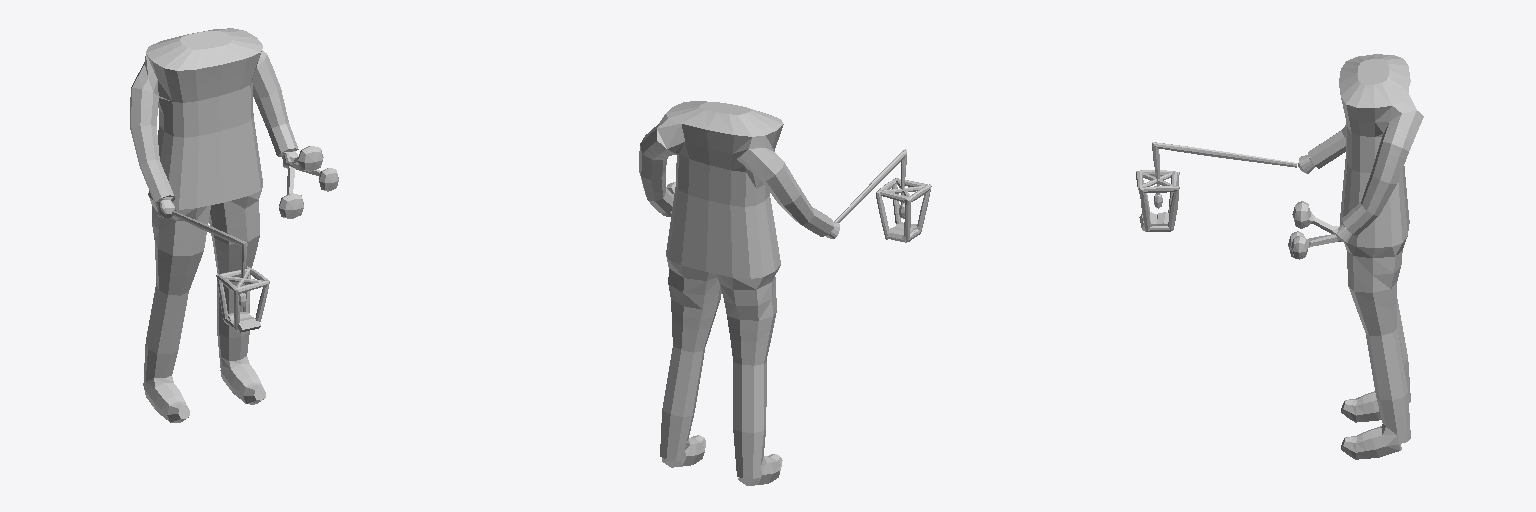
The model's file is newplayer.obj.
3 renders of one model, left to right at view 1: azimuth 30°, elevation 25°; view 2: azimuth 150°, elevation 25°; view 3: azimuth 270°, elevation 25°, orthographic.
Visible parts, largest first — view 1: Mesh_0; view 2: Mesh_0; view 3: Mesh_0.
Part boxes in pixels (bbox=[...]): Mesh_0: bbox=[130, 28, 338, 422]; Mesh_0: bbox=[639, 101, 931, 485]; Mesh_0: bbox=[1136, 54, 1423, 459].
Size of the model in its own units: 0.3974 by 0.7614 by 0.5374.